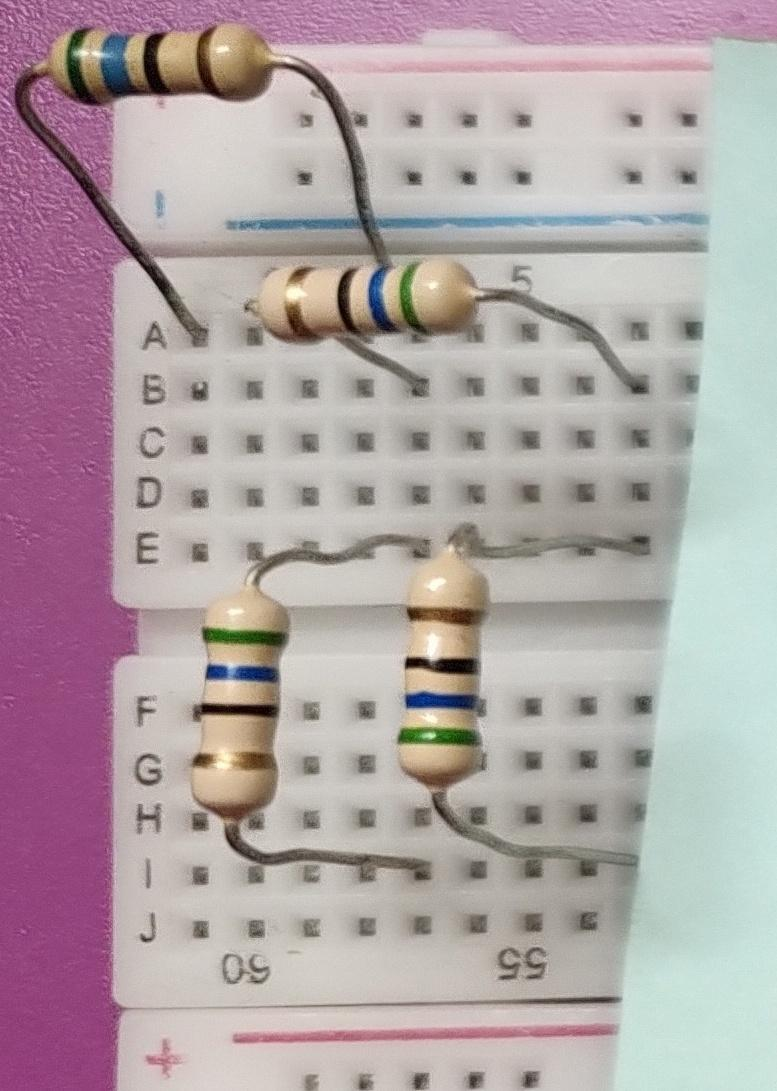resistor: (178, 570, 295, 832), (392, 540, 495, 792), (248, 250, 480, 350), (40, 10, 270, 110)
